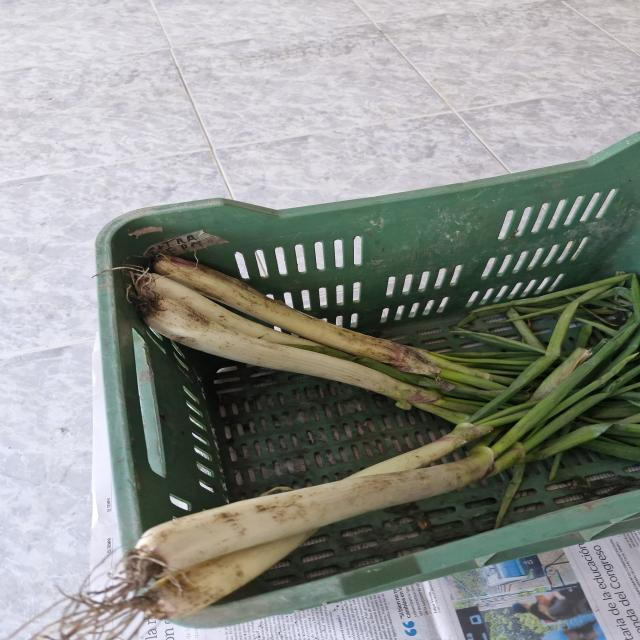green_onion: (121, 350, 640, 602), (120, 258, 506, 417)
